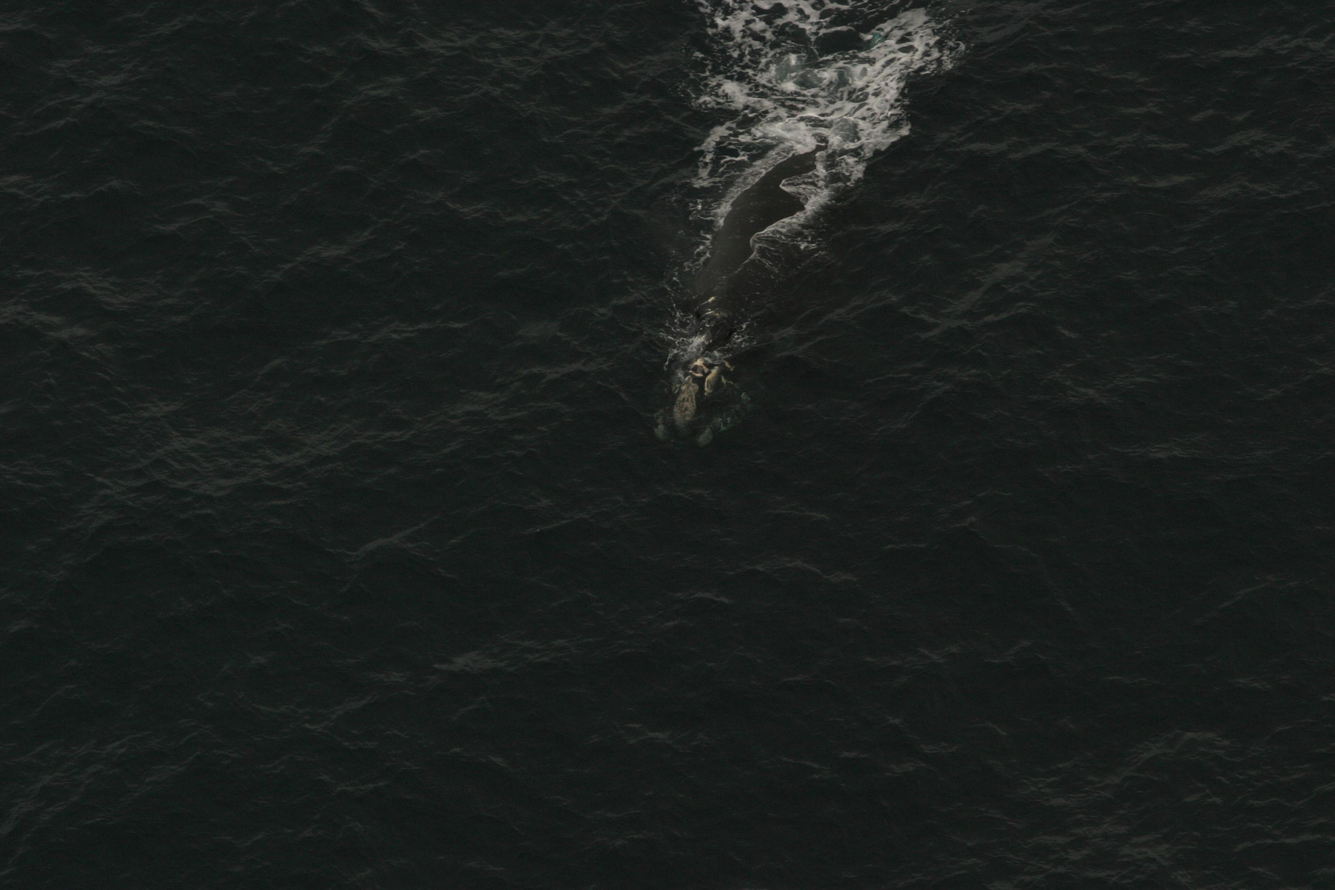whale: (636, 70, 898, 459)
